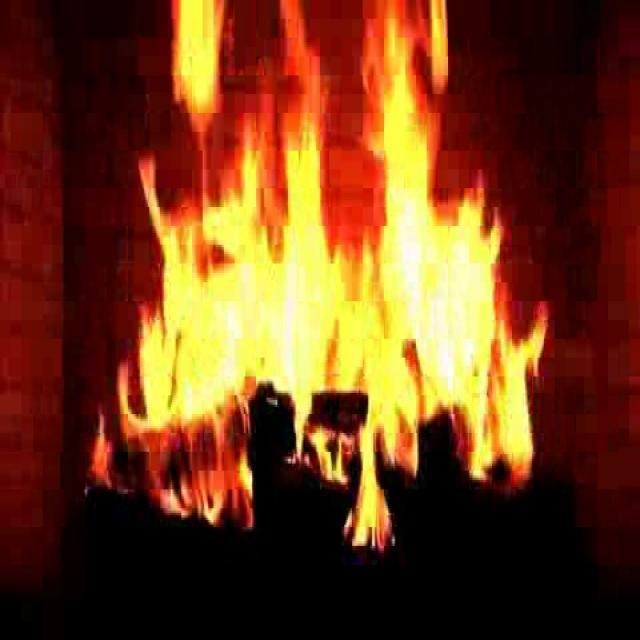Fire: (129, 158, 546, 524), (157, 5, 465, 151)
